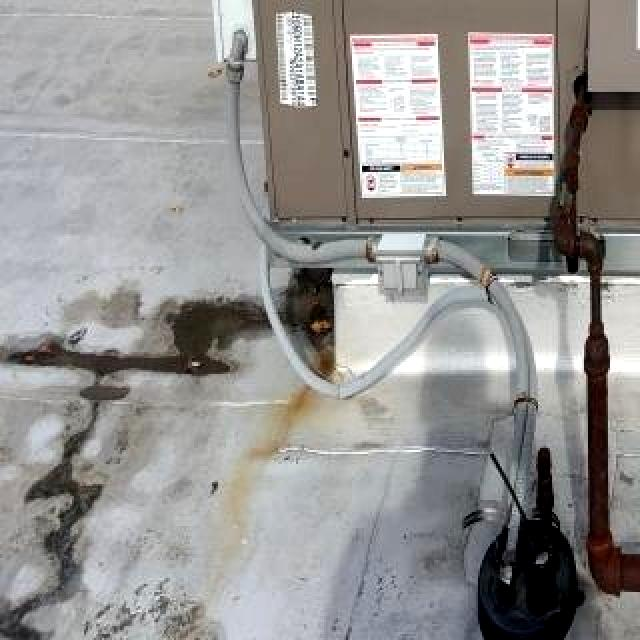RTU: (218, 0, 640, 314)
